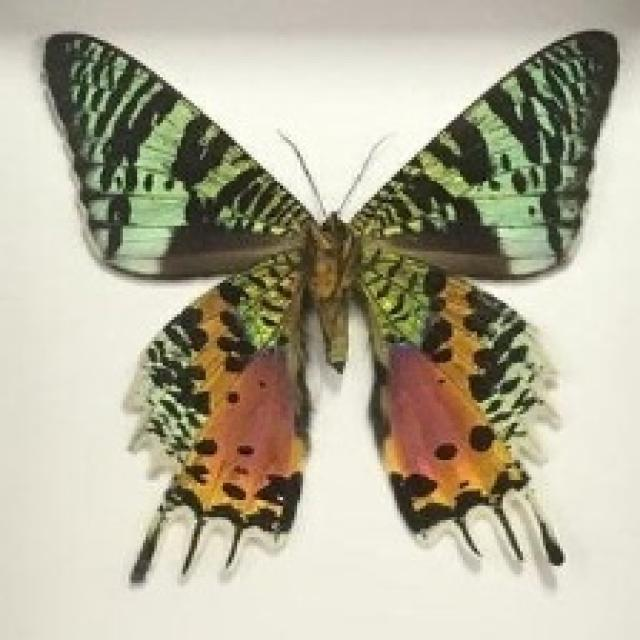butterfly: (37, 23, 620, 583)
